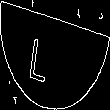L_N: (43, 27, 67, 83)
